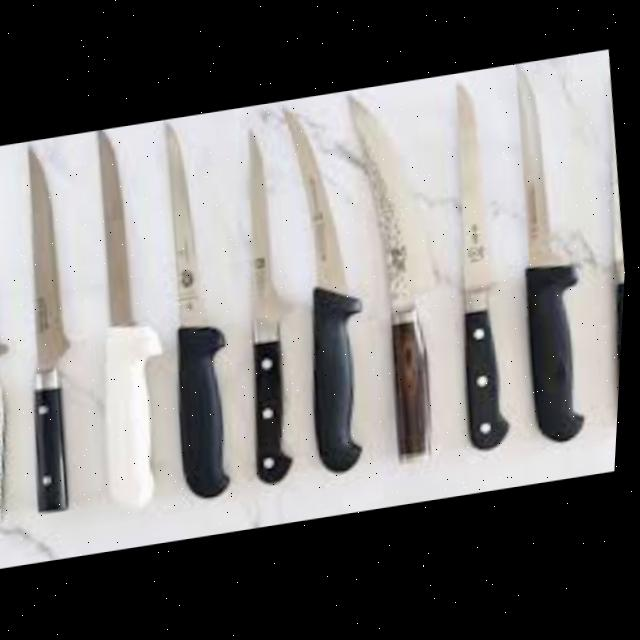Knife: (331, 80, 466, 469), (68, 121, 195, 511), (270, 101, 392, 479), (143, 112, 258, 503), (496, 59, 609, 447), (431, 75, 531, 455), (0, 138, 101, 513), (219, 123, 315, 487), (584, 69, 636, 431), (0, 145, 36, 521)
